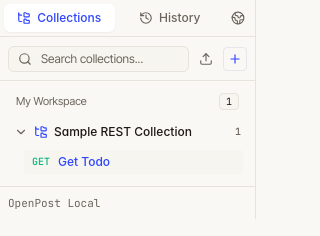
Test: Sidebar and Settings Enhancements (Step 1 Items 1, 3, 4) › Sidebar Chevron Toggle and Keyboard Accessibility › renders collection and toggles expand/collapse on click with state persistence
Expected: the text "Get Todo" is shown, [58,154,110,169]
Click to collapse
Click the button with aria-label "Toggle Sample REST Collection" at [128, 132], box [14,124,241,139]
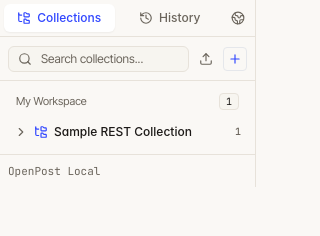
Result: the button with aria-label "Toggle Sample REST Collection" is collapsed
Result: the button "Get Todo" is gone
Click to expand again
Click the button with aria-label "Toggle Sample REST Collection" at [128, 132], box [14,124,241,139]
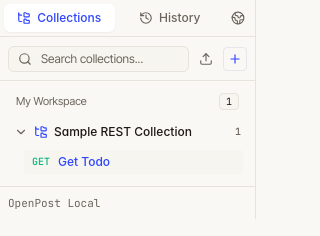
Result: the button with aria-label "Toggle Sample REST Collection" is expanded at [14,124,241,139]
Result: the text "Get Todo" is shown at [58,154,110,169]
